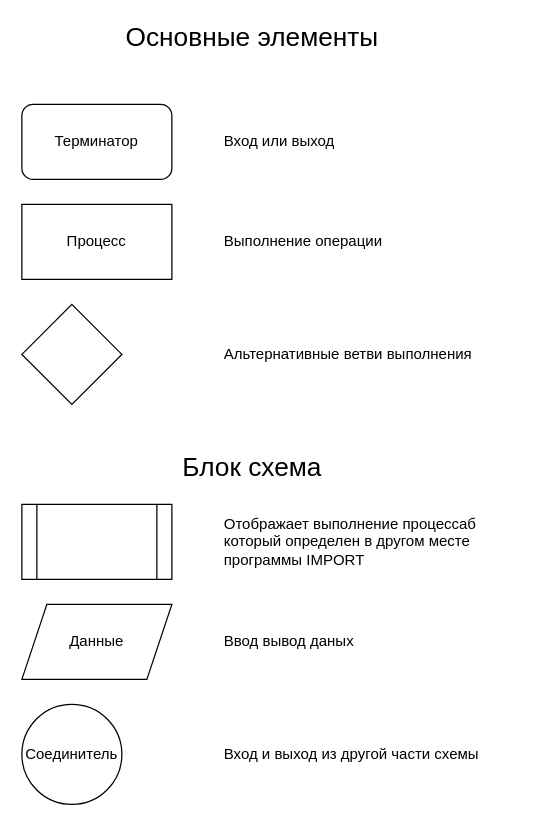
Image size: 544x826. Some labels were removed from this diagram. Each missing label, with the centre of its shape:
"Предопределеный процесс" belongs at point 96,541.
"Решение" belongs at point 71,353.
